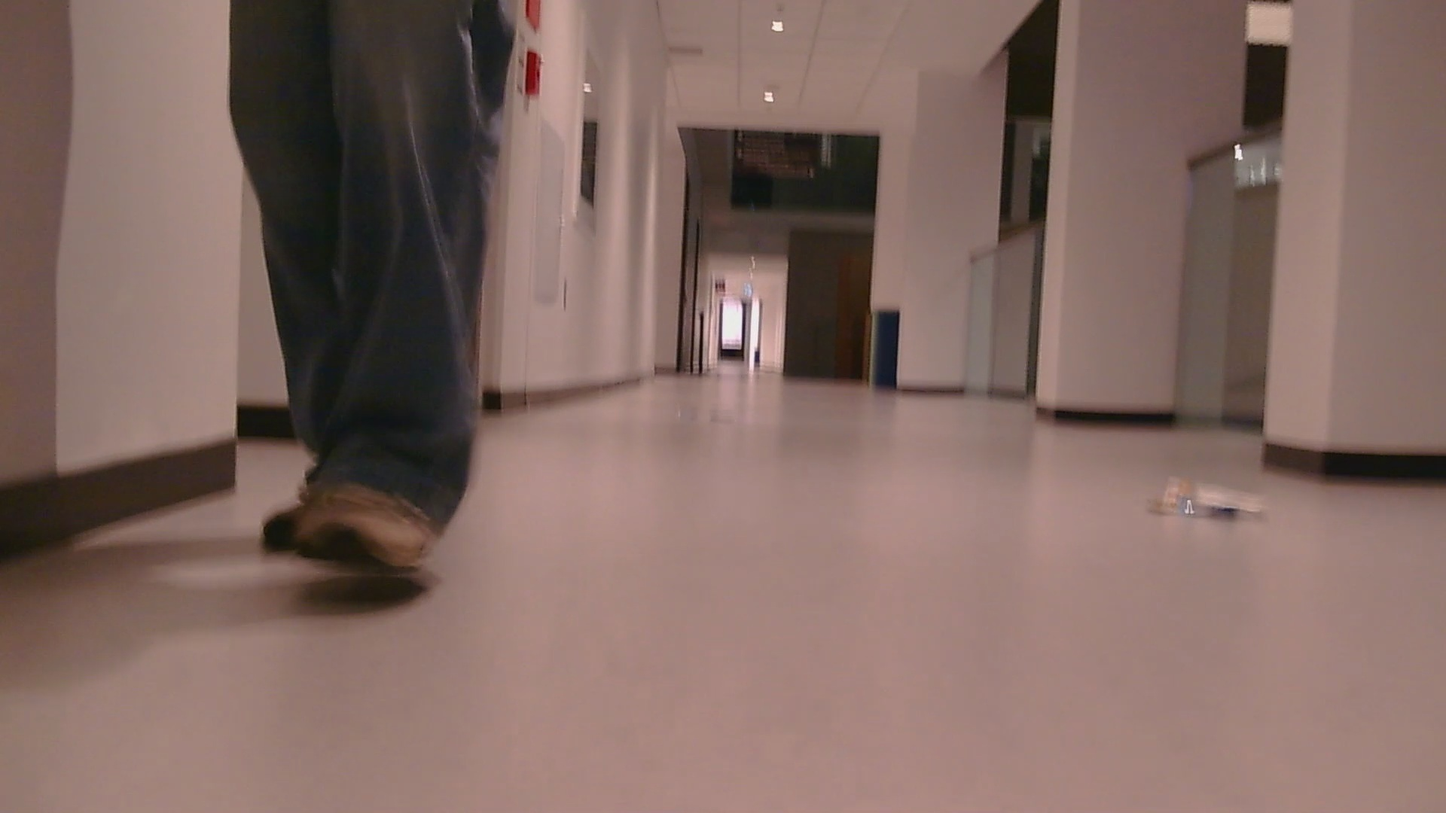carton: (1137, 464, 1282, 552)
